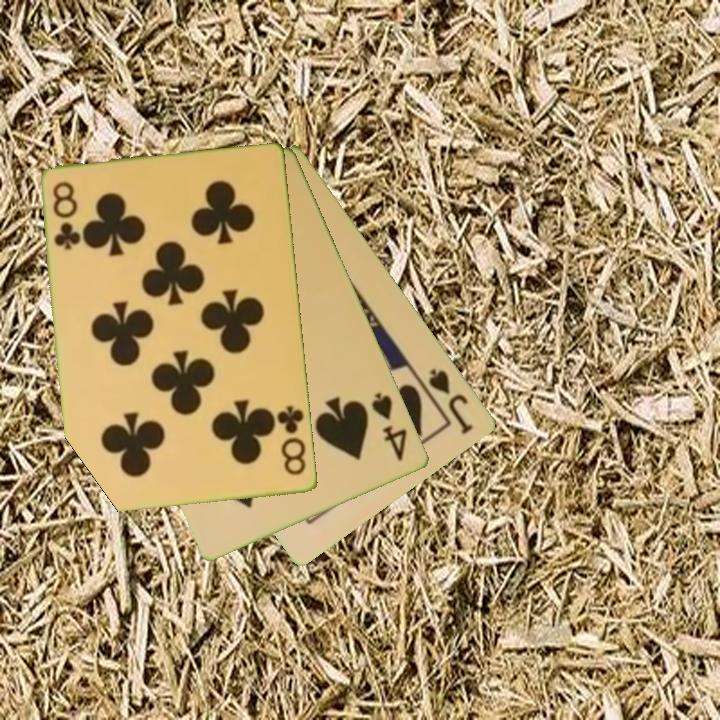4s: (368, 389, 411, 464)
8c: (273, 402, 310, 479), (50, 178, 83, 253)
Js: (425, 364, 477, 438)
